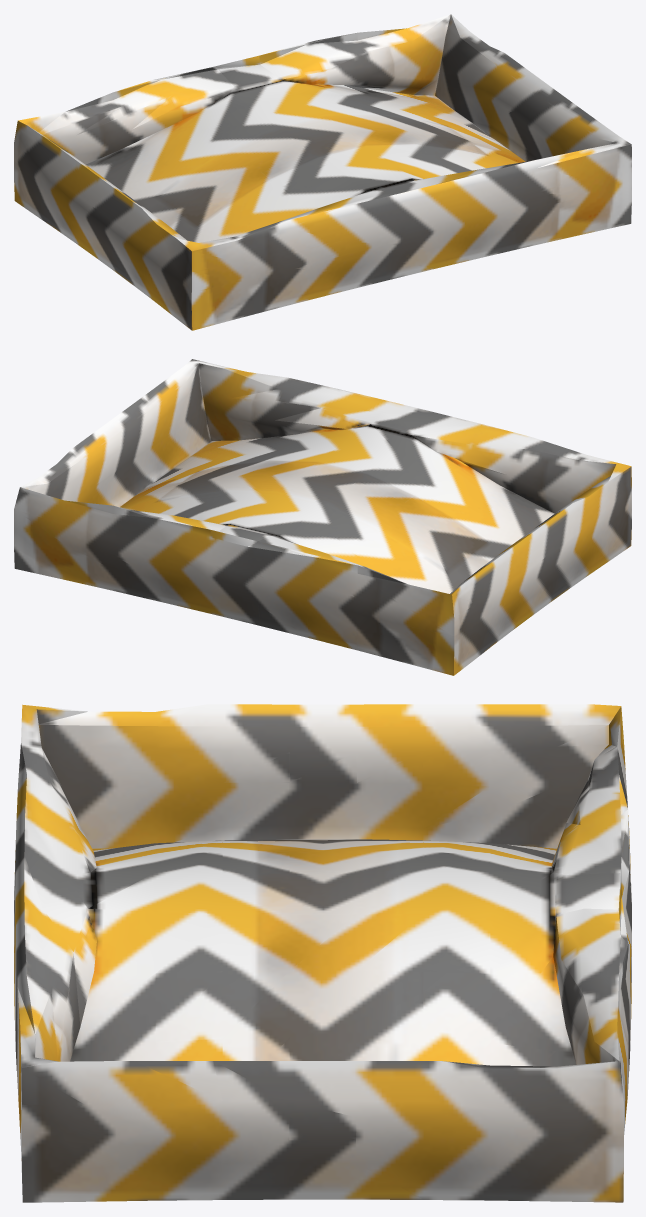
The model's file is cat_cushion.glb.
The picture shows the model from 3 angles, top to bottom: view 1: azimuth 30°, elevation 25°; view 2: azimuth 150°, elevation 25°; view 3: azimuth 270°, elevation 25°; orthographic projection. The views are drawn at different scales.
Parts seen in each view (by area): view 1: mesh; view 2: mesh; view 3: mesh.
Boxes of the visible parts, x1,y1,x2,y2 form: mesh: (14, 14, 631, 330); mesh: (14, 359, 631, 675); mesh: (14, 704, 631, 1202).
Bounding box in the file's own units: 0.5192 × 0.12 × 0.3635.
1 material, 1 textured.
